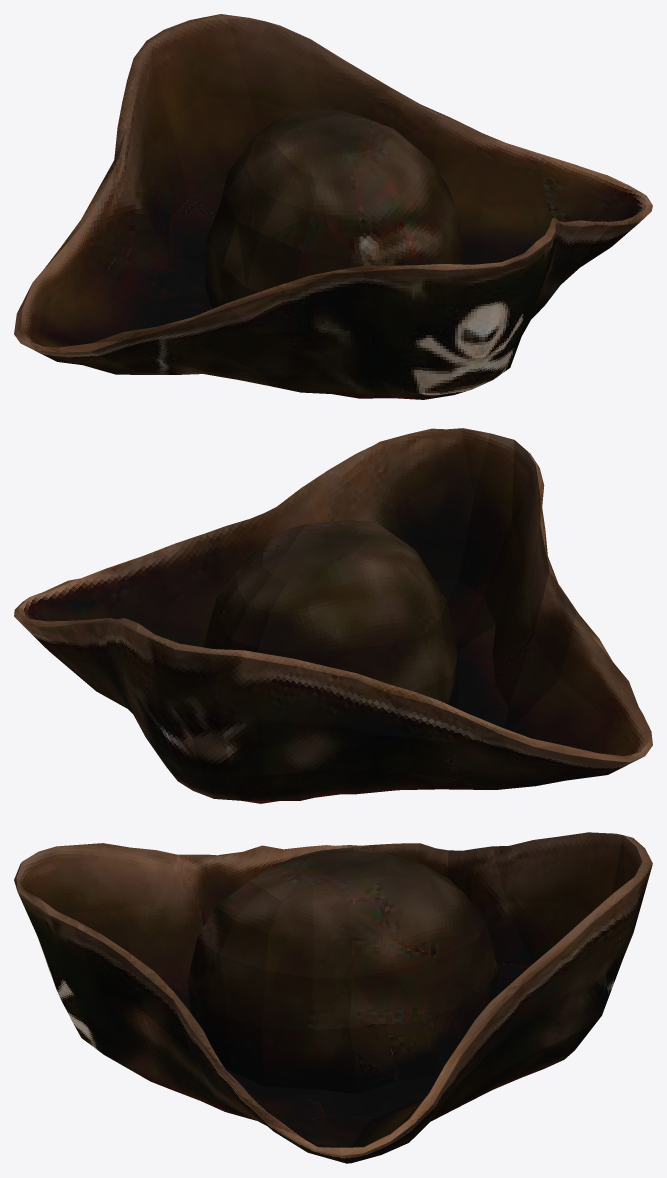
Rendered from ewm_t2piratef_hat.glb.
The picture shows the model from 3 angles, top to bottom: view 1: azimuth 30°, elevation 25°; view 2: azimuth 150°, elevation 25°; view 3: azimuth 270°, elevation 25°; orthographic projection.
Visible parts, largest first — view 1: ewm_t2piratef_hat; view 2: ewm_t2piratef_hat; view 3: ewm_t2piratef_hat.
Boxes of the visible parts, box(x1,y1,x2,y2) form: ewm_t2piratef_hat: box(14, 14, 652, 399); ewm_t2piratef_hat: box(14, 428, 652, 803); ewm_t2piratef_hat: box(14, 832, 652, 1163).
Size of the model in its own units: 0.6388 by 0.1935 by 0.5576.
Materials: 1 (1 with a texture image).
